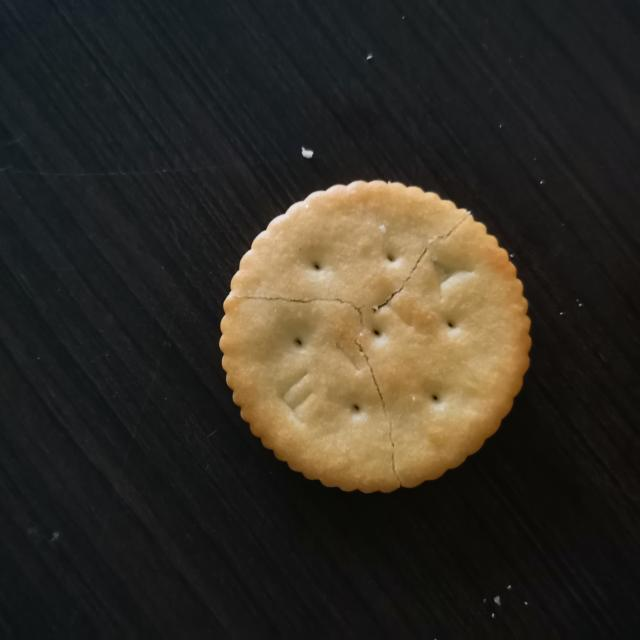Fracture: (225, 200, 483, 489)
